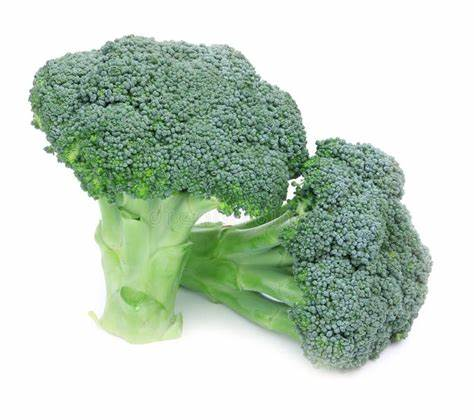Broccoli: (12, 20, 298, 383), (163, 129, 450, 381)
